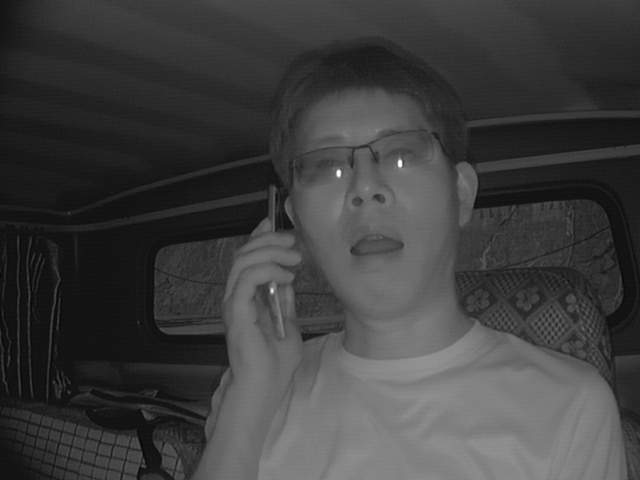hand: (216, 223, 311, 374)
